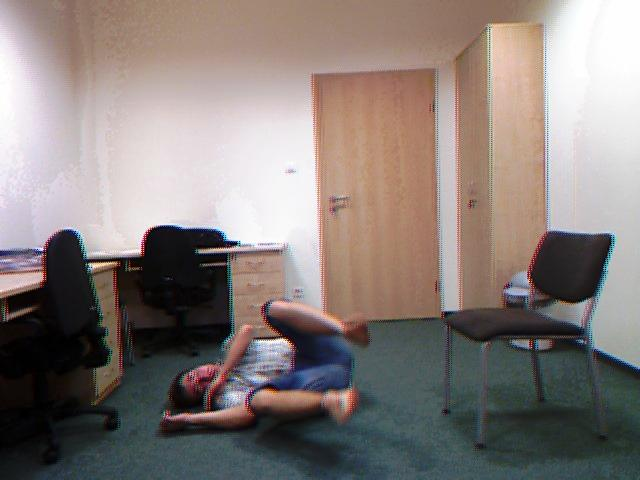fall: (147, 297, 388, 465)
